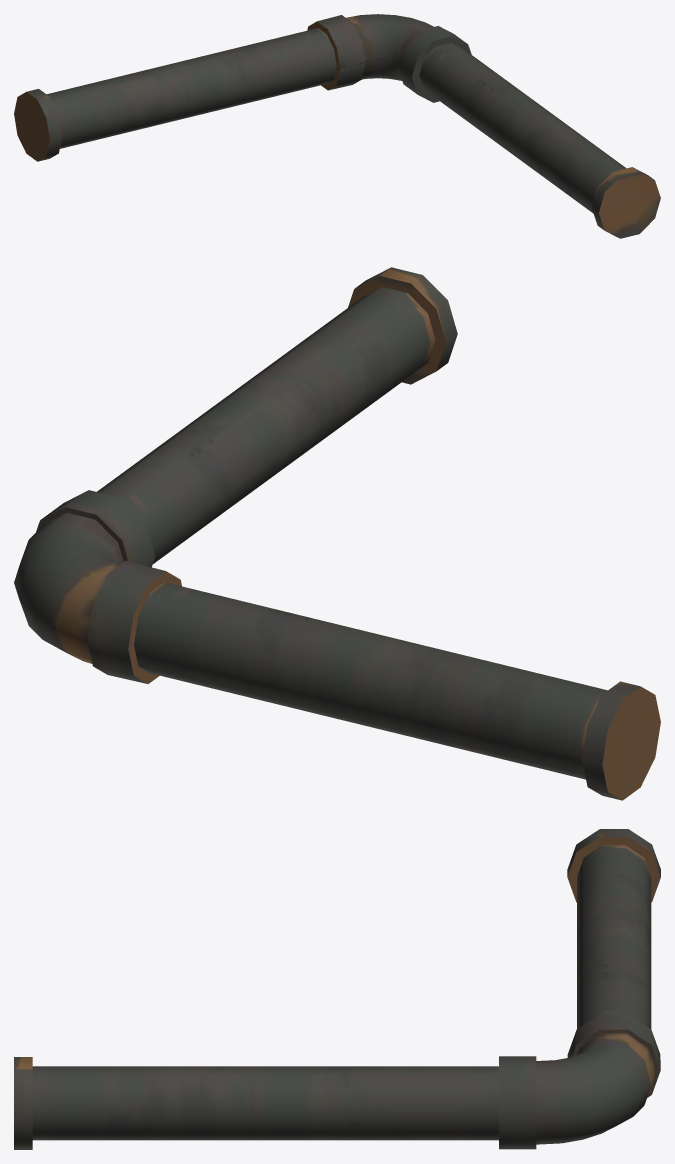
3 views of the same model, one above another, from view 1: azimuth 30°, elevation 25°; view 2: azimuth 150°, elevation 25°; view 3: azimuth 270°, elevation 25° (orthographic). The views are drawn at different scales.
Parts seen in each view (by area): view 1: body0_model0_lod0_mesh0; view 2: body0_model0_lod0_mesh0; view 3: body0_model0_lod0_mesh0.
Boxes of the visible parts, x1=… form: body0_model0_lod0_mesh0: x1=14, y1=14, x2=660, y2=238; body0_model0_lod0_mesh0: x1=14, y1=267, x2=660, y2=800; body0_model0_lod0_mesh0: x1=14, y1=829, x2=660, y2=1149.
Bounding box in the file's own units: 64.14 × 9.51 × 69.12.
1 material, 1 textured.
